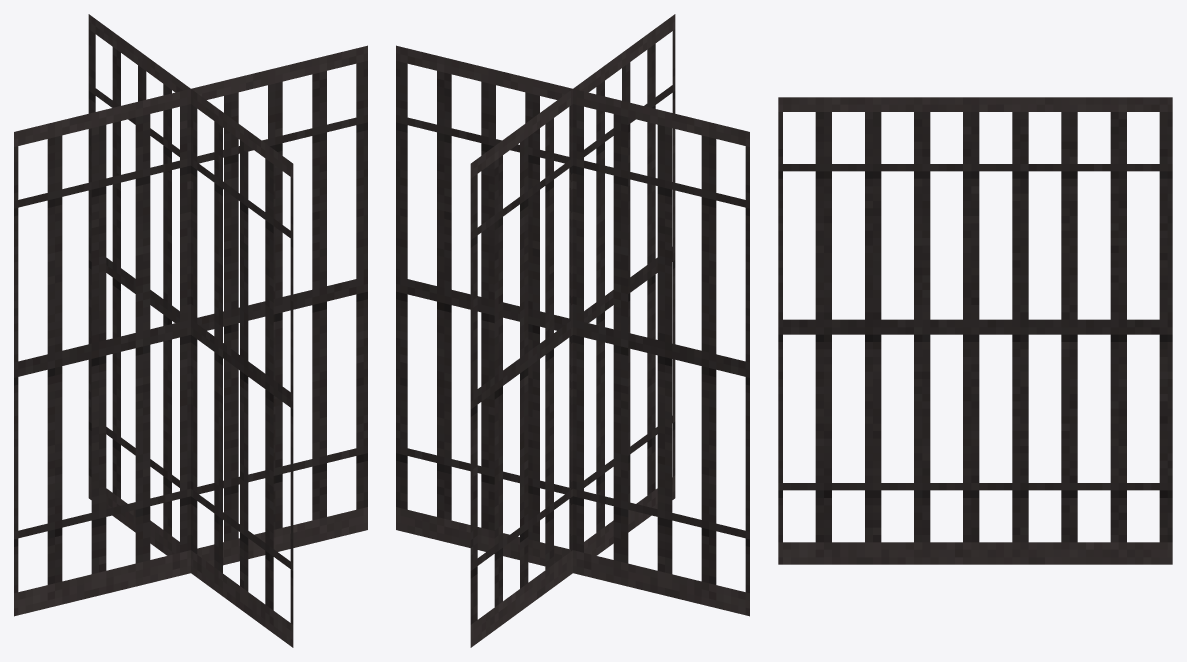
The model's file is tree_pine_large.glb.
3 views of the same model, side by side, from view 1: azimuth 30°, elevation 25°; view 2: azimuth 150°, elevation 25°; view 3: azimuth 270°, elevation 25° (orthographic). The views are drawn at different scales.
Visible parts, largest first — view 1: tree-pine-large; view 2: tree-pine-large; view 3: tree-pine-large.
Boxes of the visible parts, x1,y1,x2,y2 form: tree-pine-large: (14, 14, 367, 647); tree-pine-large: (396, 14, 749, 647); tree-pine-large: (778, 97, 1172, 564).
Size of the model in its own units: 1.3 by 1.7 by 1.3.
Materials: 1 (1 with a texture image).
